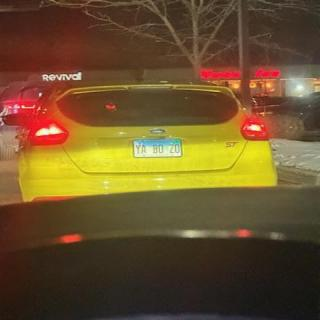license: (134, 140, 183, 159)
